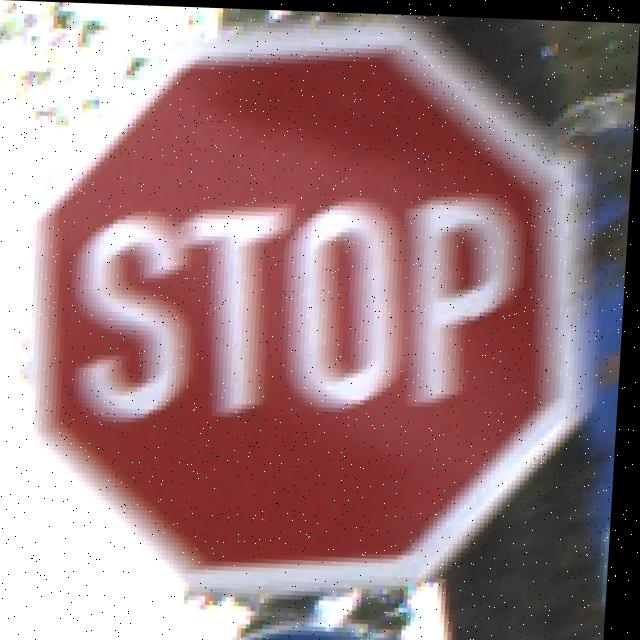stop: (7, 51, 614, 615)
